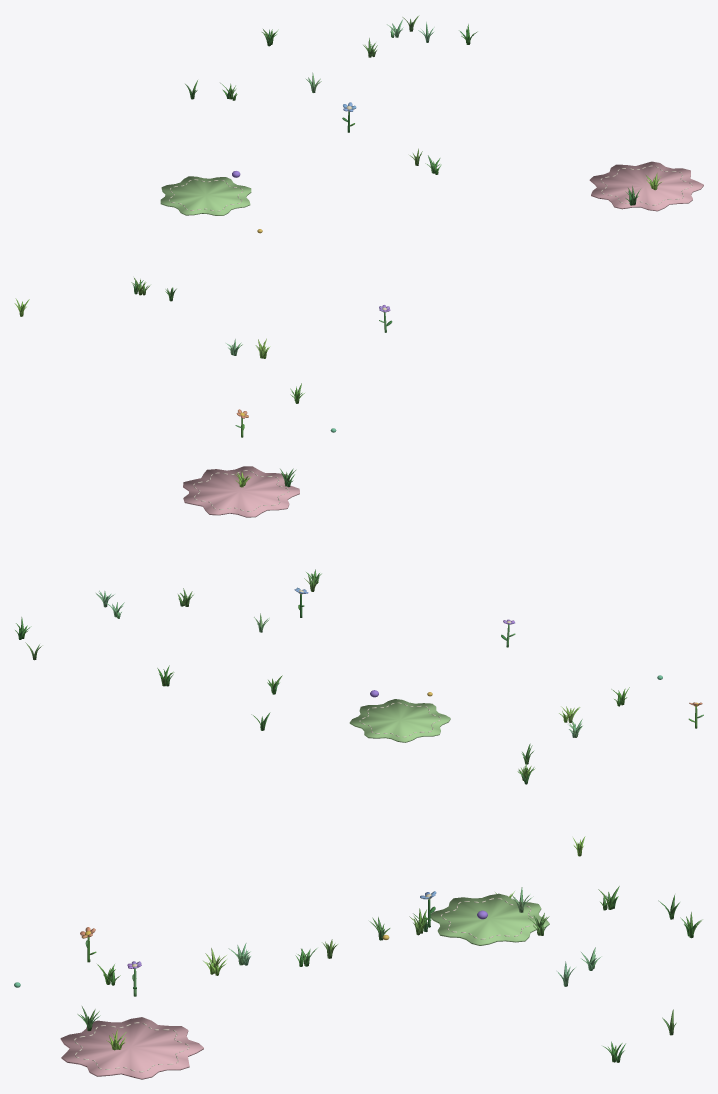
Rendered from W4_FloraRing_8_8.fbx.
The picture shows the model from 3 angles, top to bottom: view 1: azimuth 30°, elevation 25°; view 2: azimuth 150°, elevation 25°; view 3: azimuth 270°, elevation 25°; orthographic projection. The views are drawn at different scales.
Parts seen in each view (by area): view 1: W4_FloraRing_8_8; view 2: W4_FloraRing_8_8; view 3: W4_FloraRing_8_8.
Boxes of the visible parts, bbox=[...] form: W4_FloraRing_8_8: bbox=[14, 15, 703, 437]; W4_FloraRing_8_8: bbox=[15, 466, 703, 856]; W4_FloraRing_8_8: bbox=[14, 886, 702, 1079].
Bounding box in the file's own units: 4.22 × 1.44 × 3.8.
